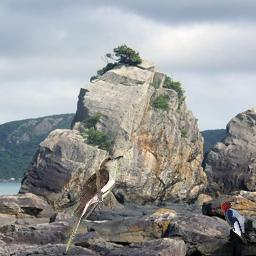Cuckoo: (66, 155, 123, 252)
Woodpecker: (220, 200, 253, 244)
